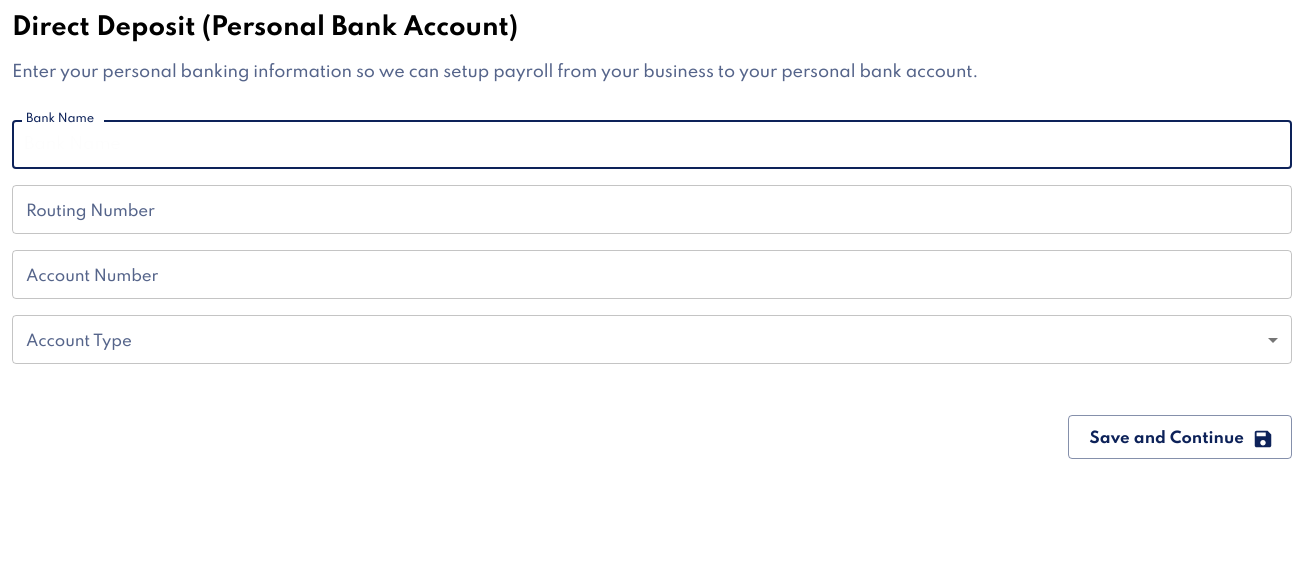
Test case: should validate Direct Deposit form
Expected: the heading "Direct Deposit (Personal Bank Account)" is shown, [12,14,518,41]
Expected: the text "Enter your personal banking information so we can setup payroll from your business to your personal bank account." is shown, [12,63,978,81]
Click the button with test id "save-direct-deposit".
click(1180, 437)  # box [1068,415,1292,459]
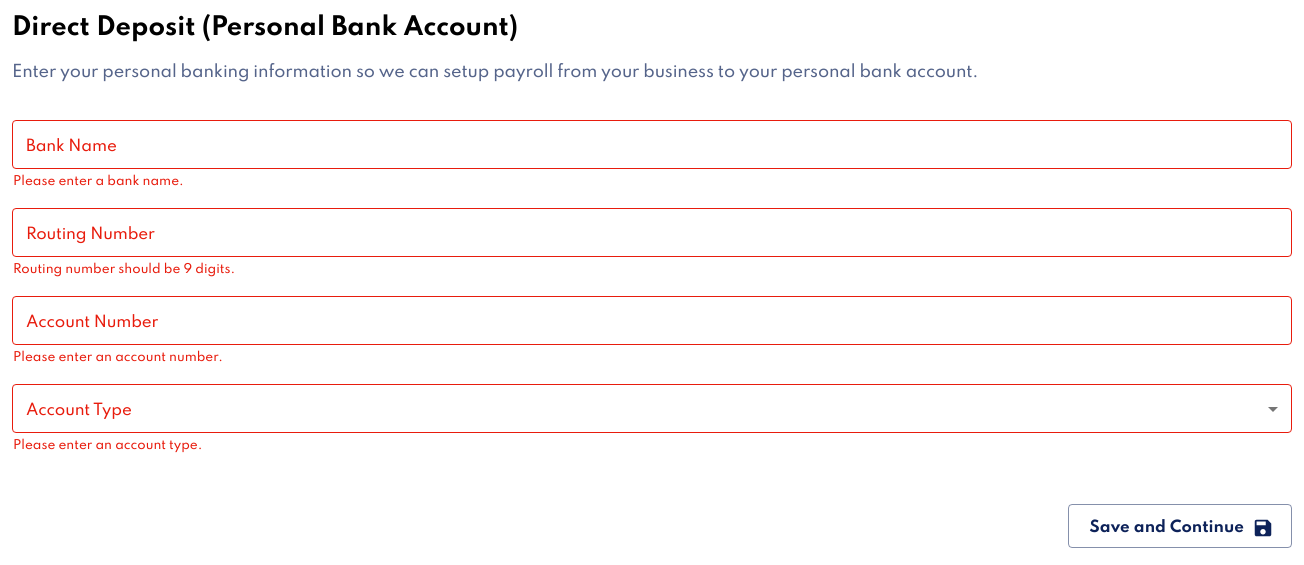
Result: the text "Please enter a bank name." is shown at [13,175,184,188]
Result: the text "Routing number should be 9 digits." is shown at [13,263,235,276]
Result: the text "Please enter an account number." is shown at [13,351,223,364]
